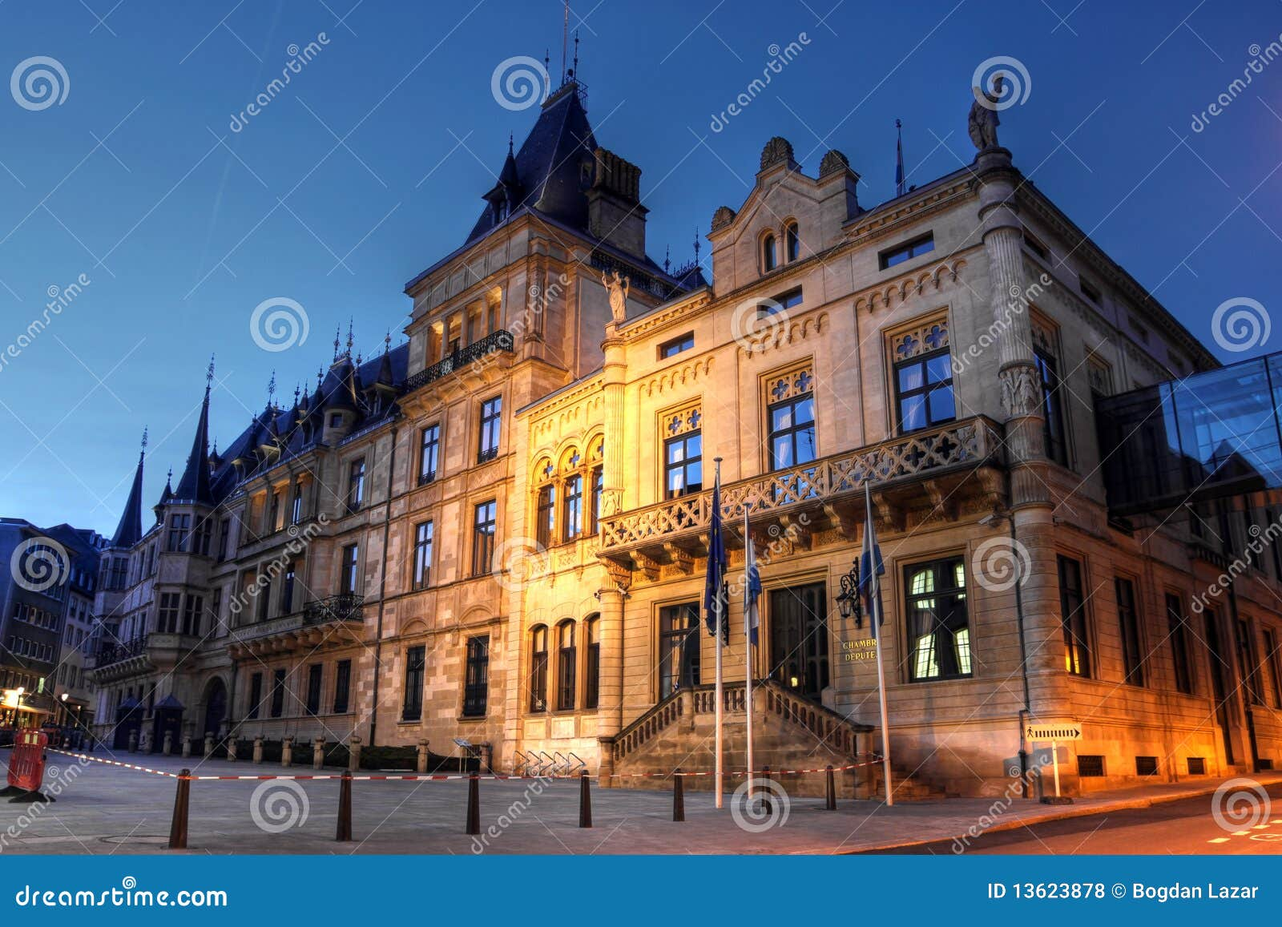Videoprojecteur: (109, 452, 396, 707)
